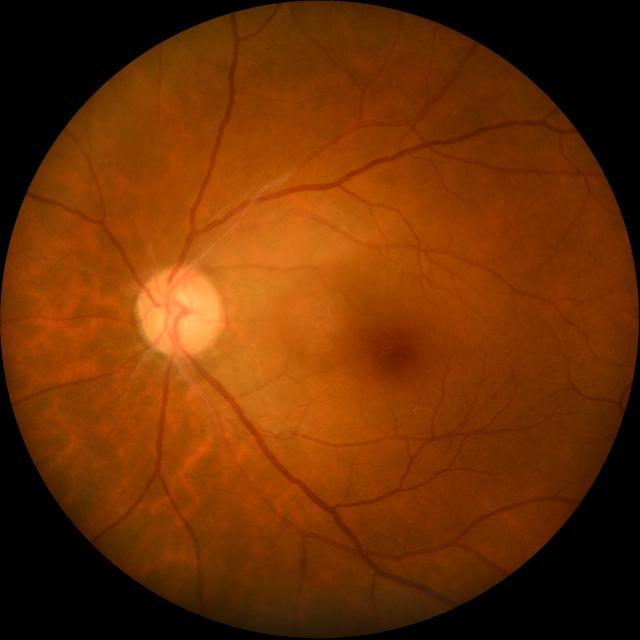OC: (160, 288, 196, 333)
OD: (138, 265, 222, 357)
